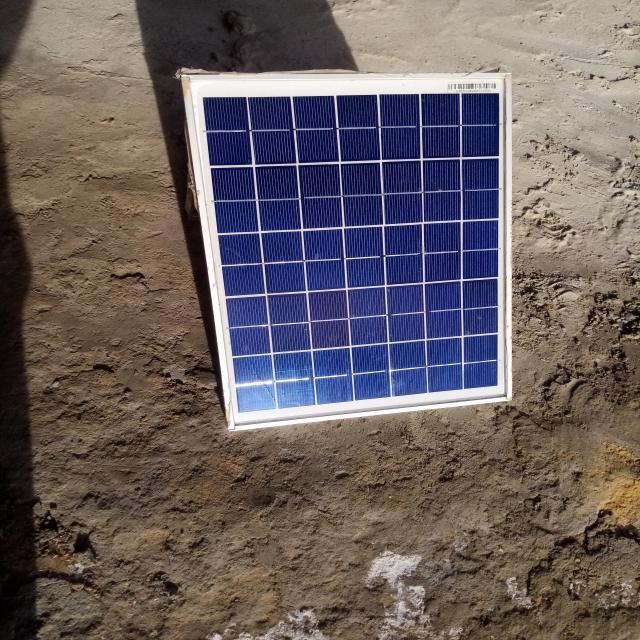no faulty: (181, 72, 513, 428)
